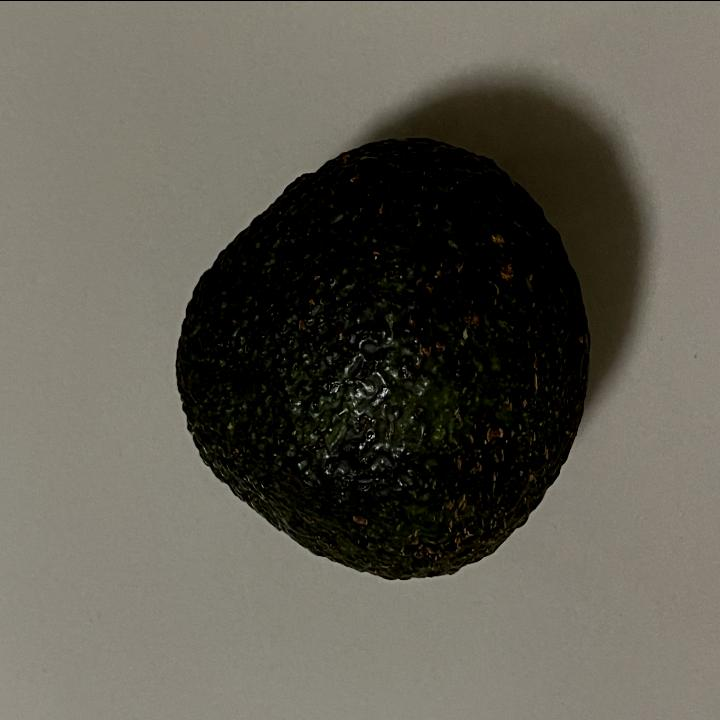Level1: (160, 116, 602, 602)
